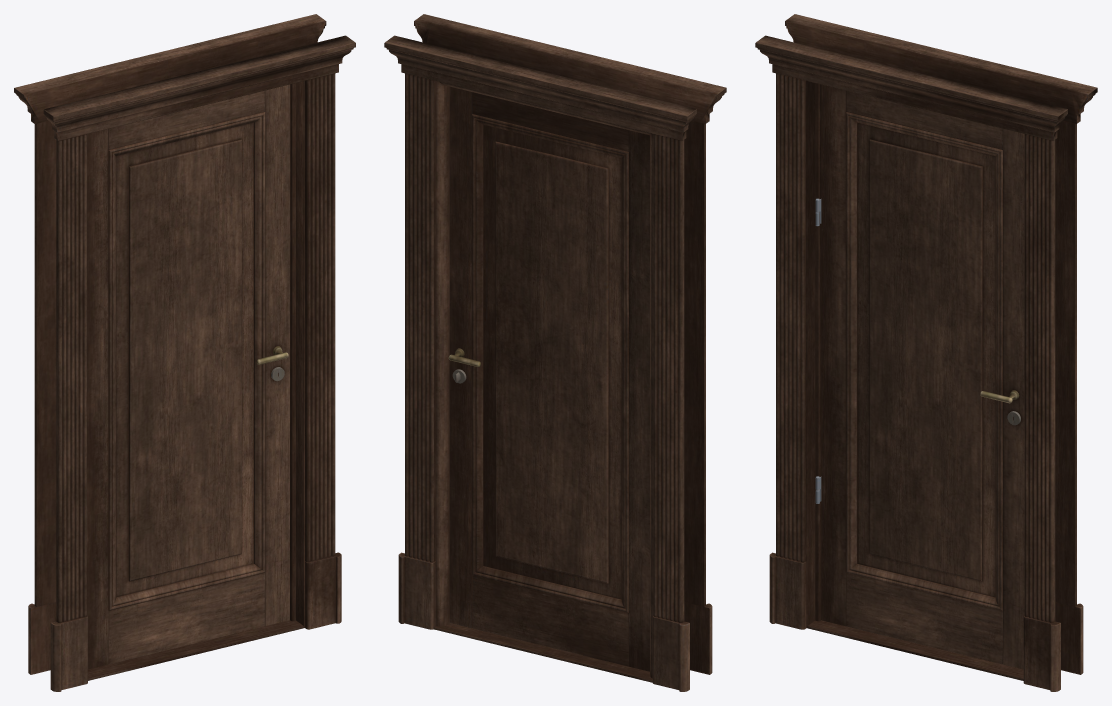
Rendered from WoodDoor.glb.
3 views of the same model, side by side, from view 1: azimuth 30°, elevation 25°; view 2: azimuth 150°, elevation 25°; view 3: azimuth 330°, elevation 25° (orthographic).
Visible parts, largest first — view 1: door, Frame; view 2: door, Frame; view 3: door, Frame.
Boxes of the visible parts, x1,y1,x2,y2 form: door: (87,84,289,669); Frame: (14,14,355,691); door: (448,86,649,671); Frame: (384,14,726,691); door: (815,84,1024,669); Frame: (755,14,1097,691).
Bounding box in the file's own units: 1.28 × 2.35 × 0.289.
Materials: 1 (1 with a texture image).
